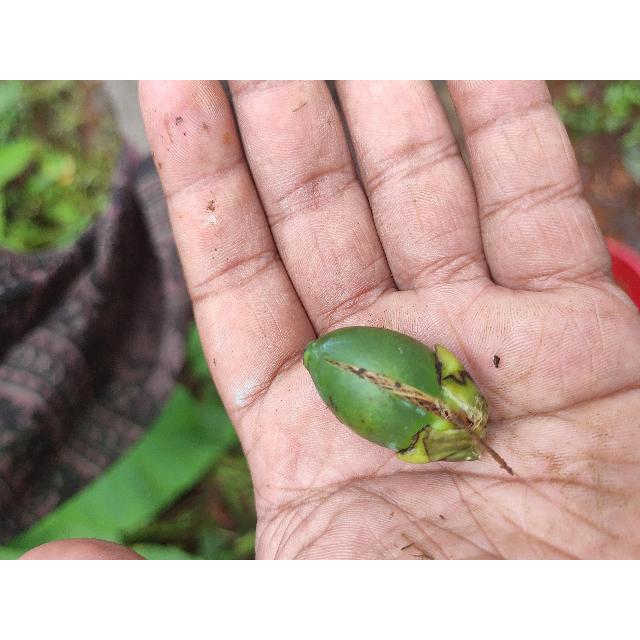damaged: (300, 327, 490, 466)
